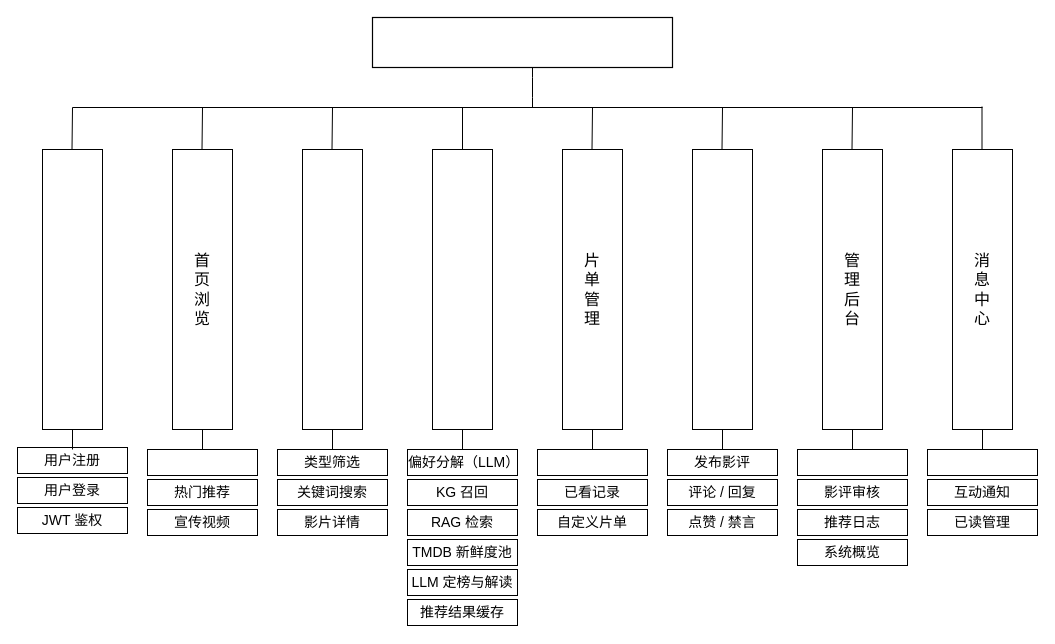
Some shapes in this 1055 by 644 pixel diagram are drawn without their labels. The centre of each missing label's shape, as x and y in pixels:
"MovieHub 电影推荐系统功能模块" goes at [522,42].
"影 评 社 区" goes at [722,289].
"推荐通知" goes at [982,462].
"收藏管理" goes at [592,462].
"智 能 推 荐" goes at [462,289].
"正在上映" goes at [202,462].
"片 库 检 索" goes at [332,289].
"用 户 认 证" goes at [72,289].
"用户管理" goes at [852,462].
